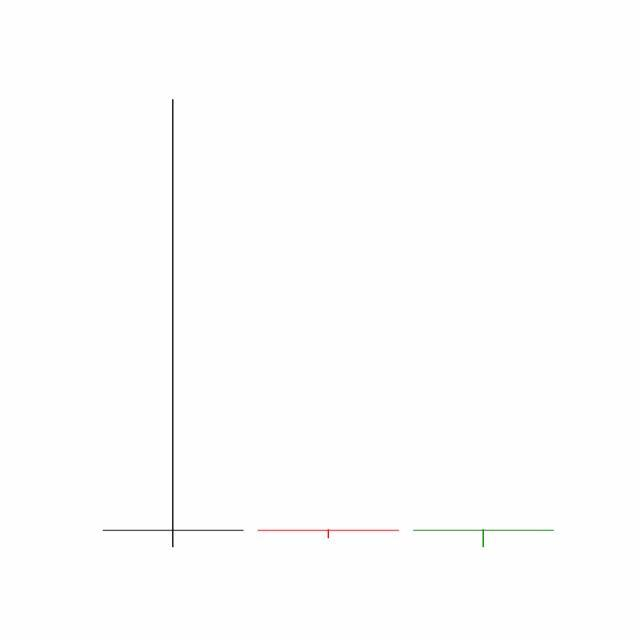Dragonfly Doji: (406, 530, 562, 549)
